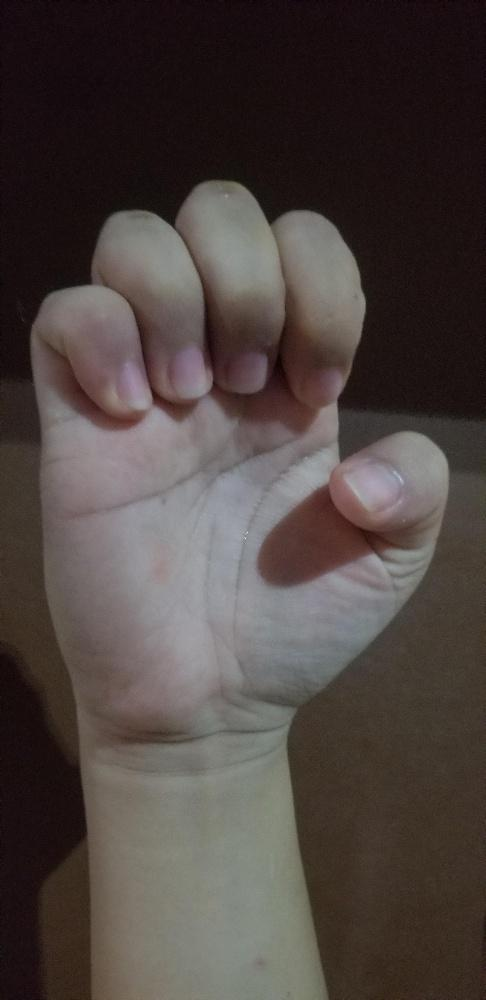e: (29, 178, 451, 730)
